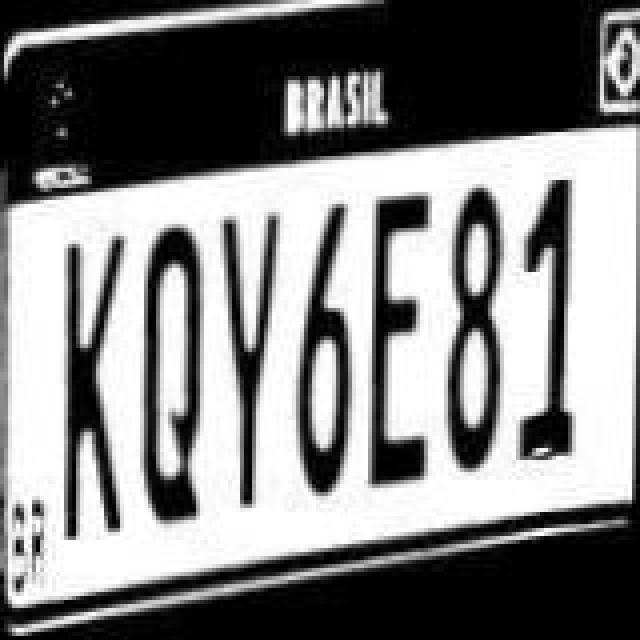1: (516, 176, 584, 464)
6: (292, 198, 360, 502)
8: (444, 184, 512, 472)
E: (366, 194, 438, 494)
K: (54, 230, 130, 546)
Q: (138, 218, 210, 526)
Y: (214, 206, 286, 514)
